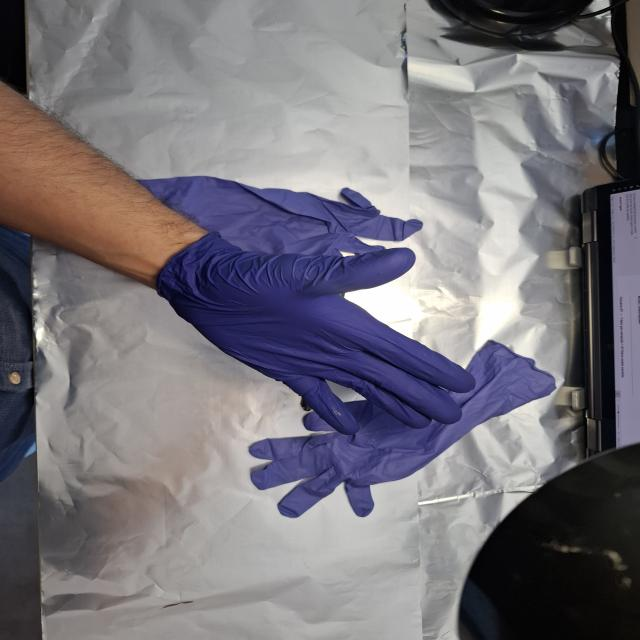glove_on: (154, 230, 481, 438)
